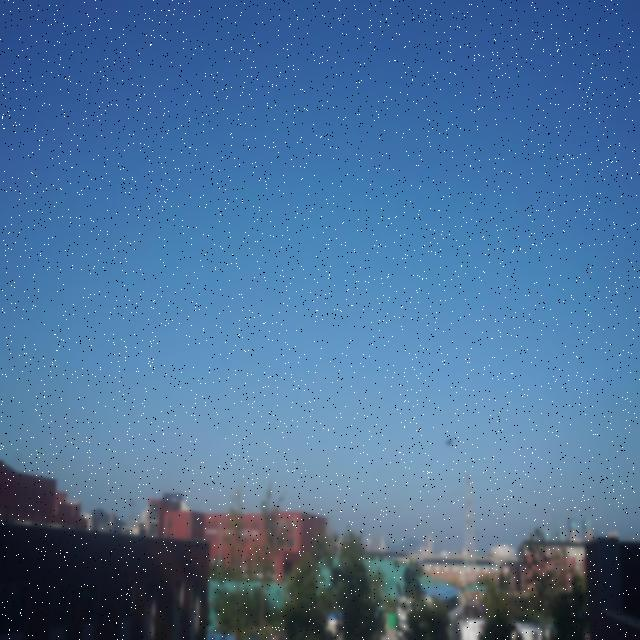UAV: (445, 437, 454, 447)
